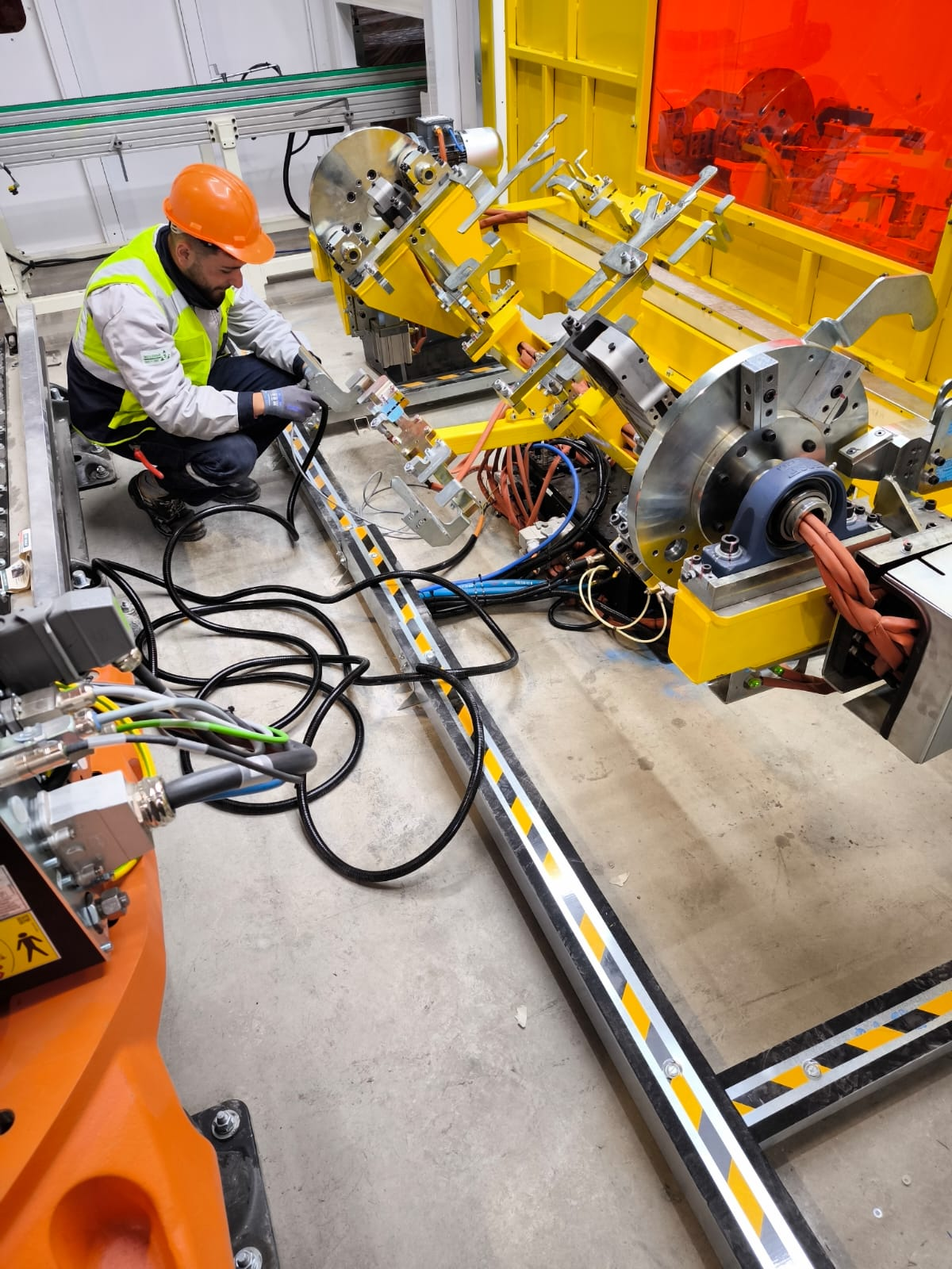safety_helmet: (161, 162, 276, 266)
